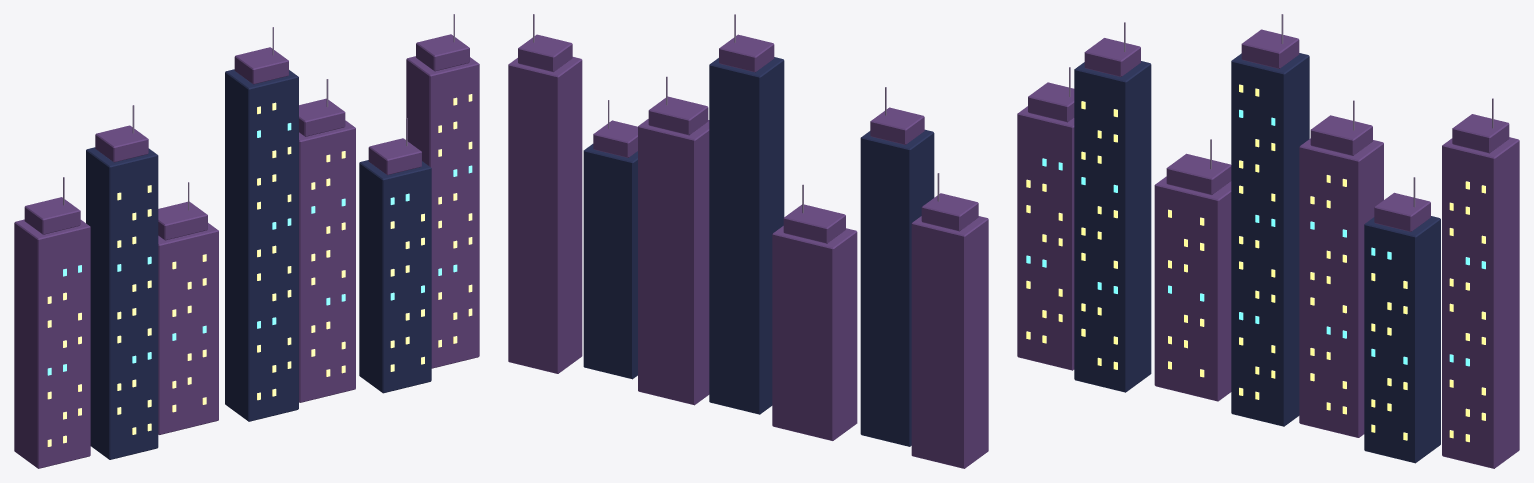
Rendered from sfv2_back_skyline.glb.
3 renders of one model, left to right at view 1: azimuth 30°, elevation 25°; view 2: azimuth 150°, elevation 25°; view 3: azimuth 330°, elevation 25°, orthographic. The views are drawn at different scales.
Parts seen in each view (by area): view 1: sfv2_back_skyline__sf_violet_stucco, sfv2_back_skyline__sf_midnight_blue, sfv2_back_skyline__sf_emissive_window, sfv2_back_skyline__sf_emissive_cyan; view 2: sfv2_back_skyline__sf_violet_stucco, sfv2_back_skyline__sf_midnight_blue; view 3: sfv2_back_skyline__sf_violet_stucco, sfv2_back_skyline__sf_midnight_blue, sfv2_back_skyline__sf_emissive_window, sfv2_back_skyline__sf_emissive_cyan.
Boxes of the visible parts, x1,y1,x2,y2 form: sfv2_back_skyline__sf_violet_stucco: (14, 34, 479, 468); sfv2_back_skyline__sf_midnight_blue: (86, 69, 431, 459); sfv2_back_skyline__sf_emissive_window: (47, 94, 472, 446); sfv2_back_skyline__sf_emissive_cyan: (47, 123, 472, 375); sfv2_back_skyline__sf_violet_stucco: (508, 34, 988, 468); sfv2_back_skyline__sf_midnight_blue: (583, 57, 934, 446); sfv2_back_skyline__sf_violet_stucco: (1017, 29, 1519, 468); sfv2_back_skyline__sf_midnight_blue: (1074, 53, 1440, 463); sfv2_back_skyline__sf_emissive_window: (1026, 84, 1485, 442); sfv2_back_skyline__sf_emissive_cyan: (1026, 109, 1485, 366).
Bounding box in the file's own units: 81.52 × 65.85 × 11.96.
